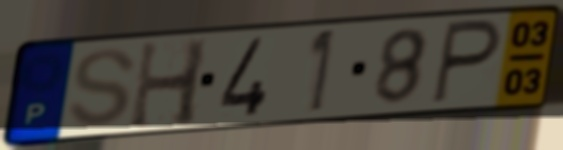1: (305, 26, 339, 117)
4: (218, 35, 271, 118)
8: (370, 25, 432, 108)
H: (125, 36, 212, 133)
P: (428, 16, 505, 107)
S: (65, 46, 140, 131)
